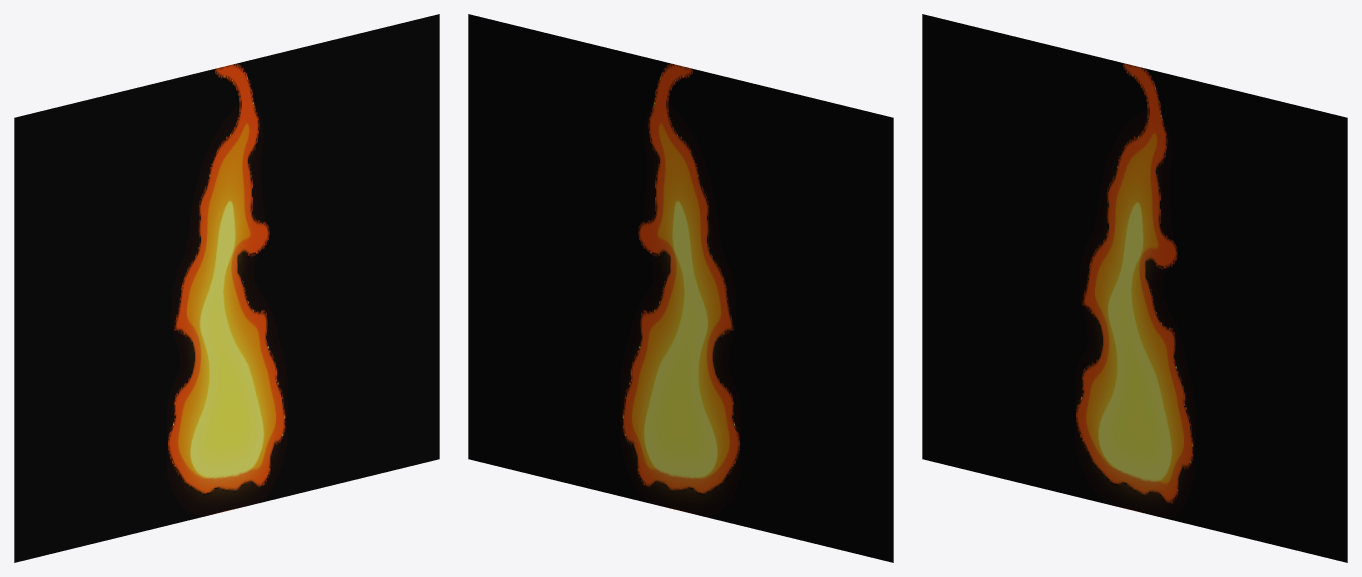
Rendered from fire.obj.
3 renders of one model, left to right at view 1: azimuth 30°, elevation 25°; view 2: azimuth 150°, elevation 25°; view 3: azimuth 330°, elevation 25°, orthographic.
Visible parts, largest first — view 1: fire:pPlane1; view 2: fire:pPlane1; view 3: fire:pPlane1.
Part boxes in pixels (x1,y1,x2,y2): fire:pPlane1: [14, 14, 439, 562]; fire:pPlane1: [468, 14, 893, 562]; fire:pPlane1: [922, 14, 1347, 562].
Size of the model in its own units: 0.2394 by 0.2394 by 0.
Materials: 1 (1 with a texture image).
